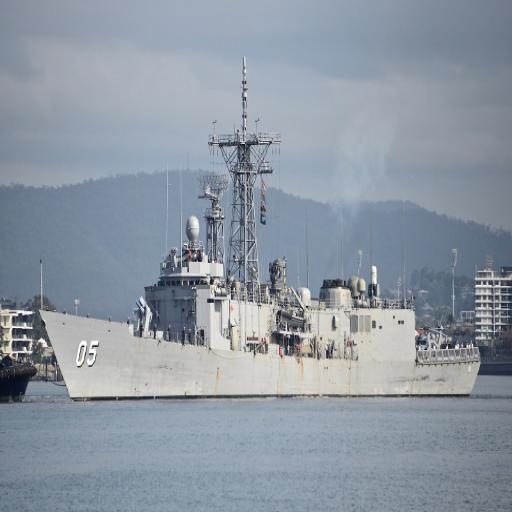Fragata: (34, 62, 488, 413)
